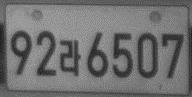0: (135, 32, 159, 78)
2: (34, 30, 58, 77)
5: (111, 31, 133, 79)
6: (85, 30, 108, 79)
7: (160, 32, 185, 80)
9: (9, 29, 33, 76)
라: (59, 38, 82, 77)
